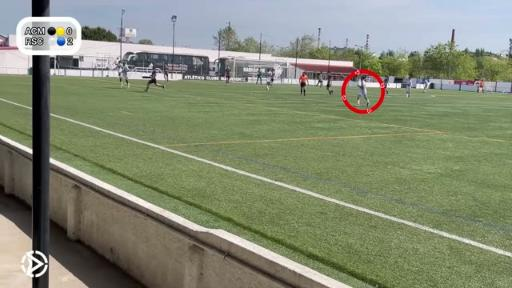highlight_overlay: (342, 69, 385, 114)
